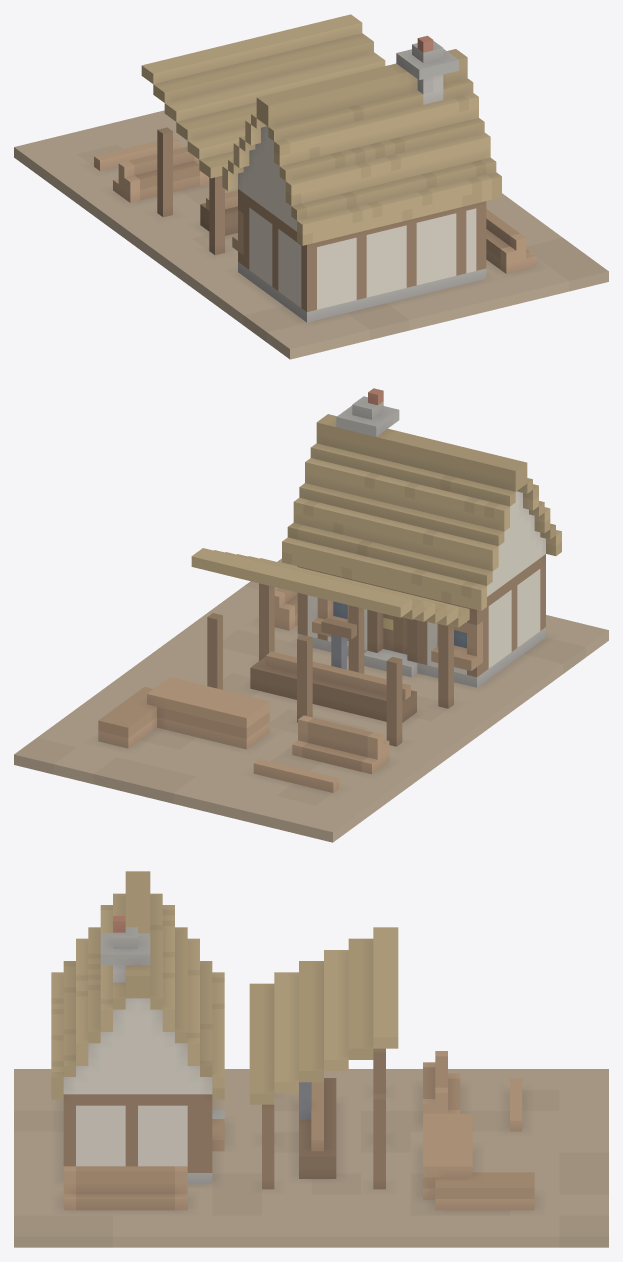
The model's file is sawmill.glb.
3 views of the same model, one above another, from view 1: azimuth 30°, elevation 25°; view 2: azimuth 150°, elevation 25°; view 3: azimuth 270°, elevation 25° (orthographic). The views are drawn at different scales.
Parts seen in each view (by area): view 1: sawmill; view 2: sawmill; view 3: sawmill.
Boxes of the visible parts, x1,y1,x2,y2 form: sawmill: (14,14,608,359); sawmill: (14,388,608,842); sawmill: (14,871,608,1247).
Bounding box in the file's own units: 4 × 2.88 × 6.
